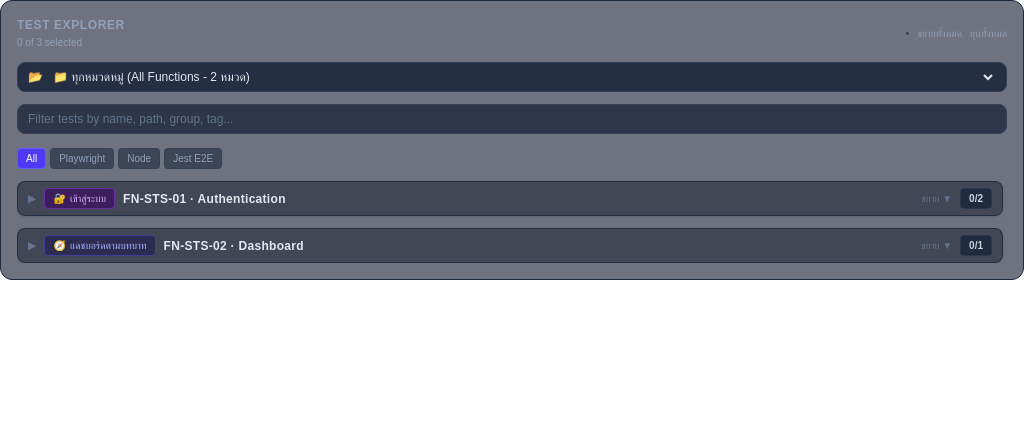
Test: TestExplorer Component › supports searching by function ID and function name
Type "FN-STS-02" into the field with placeholder "Filter tests by name, path, group, tag..." at (512, 119), box [17,104,1007,134]
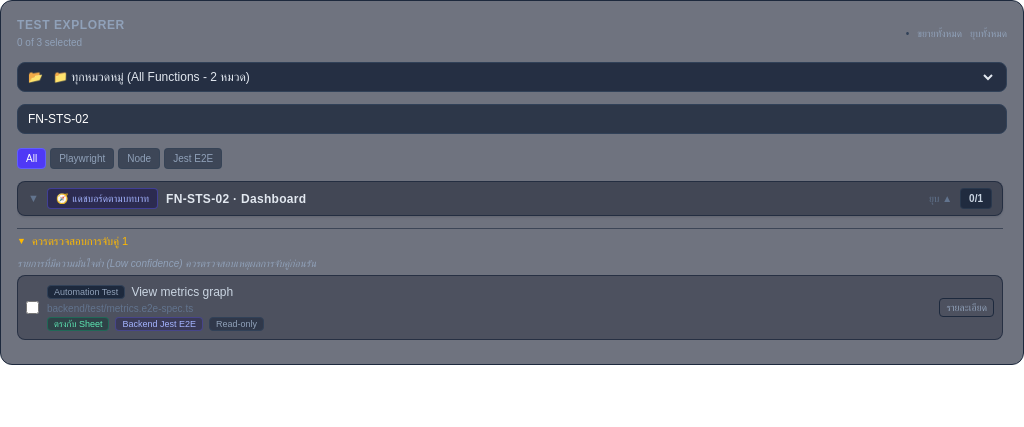
Expected: the text "Login with valid credentials" is not shown
Now the text "View metrics graph" is shown, box [131,284,233,300]
Replace the text in the field with placeholder "Filter tests by name, path, group, tag..." with "Authentication" at (512, 119), box [17,104,1007,134]
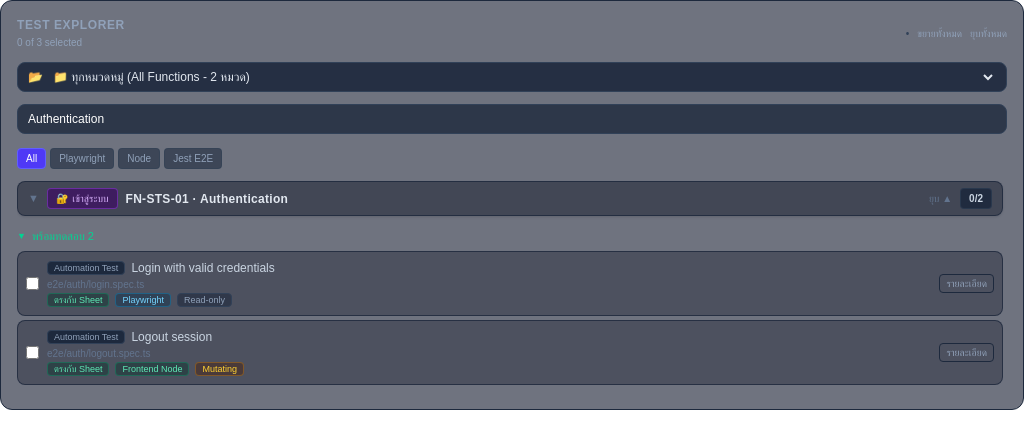
Now the text "Login with valid credentials" is shown, box [131,260,275,276]
Now the button "View metrics graph" is gone
